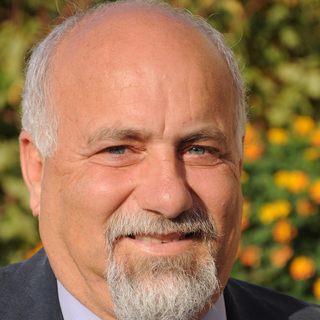eye: (91, 138, 145, 165), (179, 140, 226, 162)
